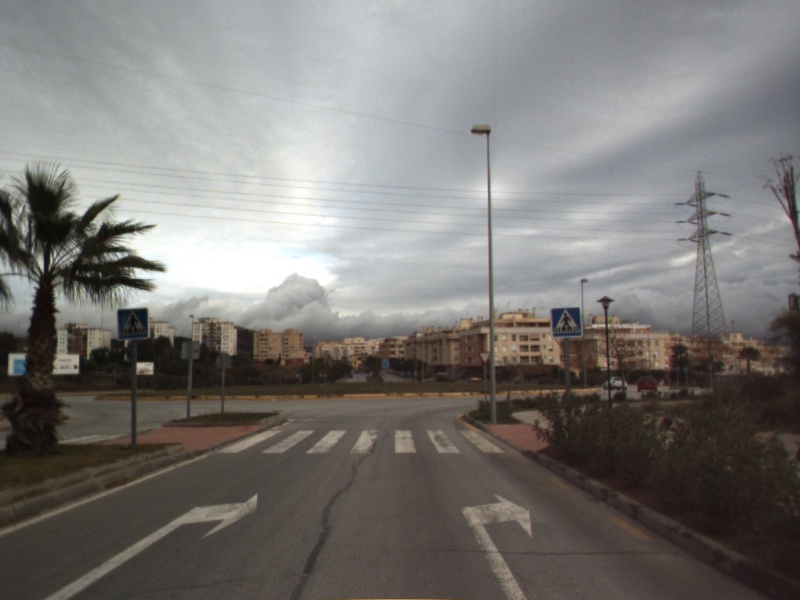RIGHT: (41, 491, 260, 600), (458, 491, 534, 600)
